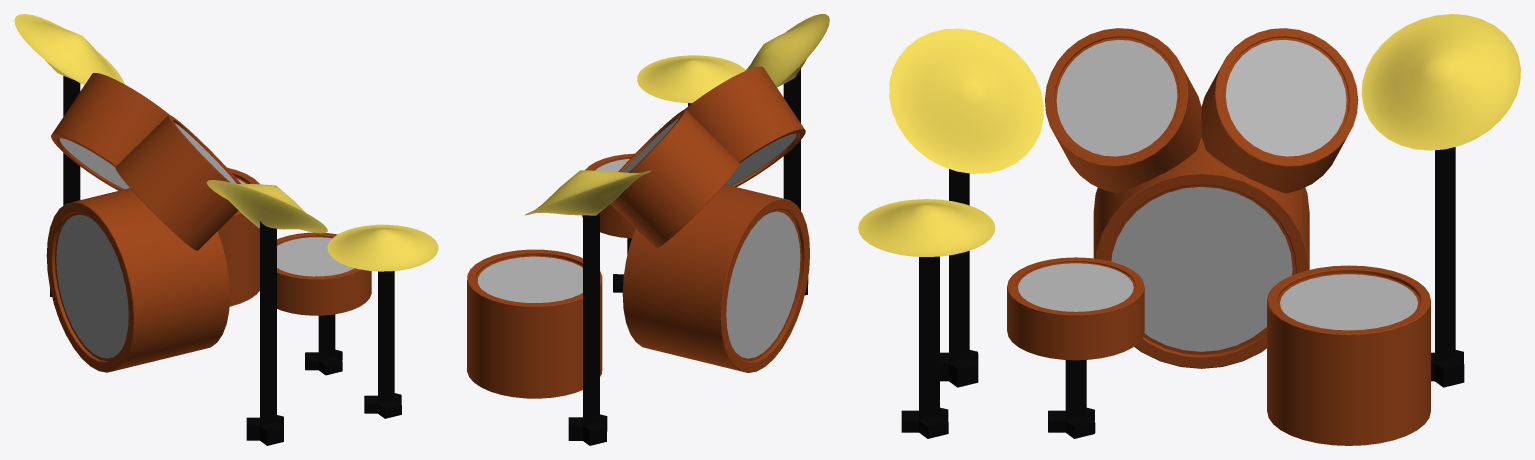
The model's file is drums.fbx.
3 views of the same model, side by side, from view 1: azimuth 30°, elevation 25°; view 2: azimuth 150°, elevation 25°; view 3: azimuth 270°, elevation 25° (orthographic). The views are drawn at different scales.
Visible parts, largest first — view 1: drums; view 2: drums; view 3: drums.
Part boxes in pixels (bbox=[...]): drums: bbox=[14, 14, 438, 445]; drums: bbox=[467, 14, 829, 445]; drums: bbox=[858, 14, 1520, 445].
Bounding box in the file's own units: 478 × 538 × 965.
